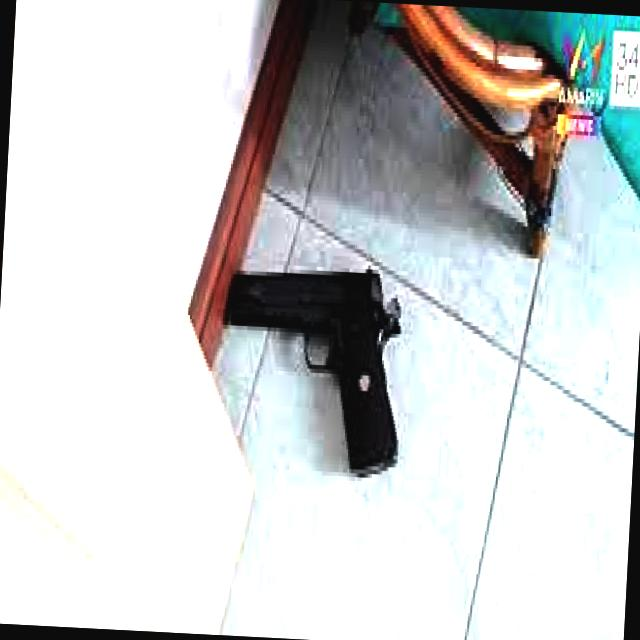semi automatic: (208, 243, 422, 494)
